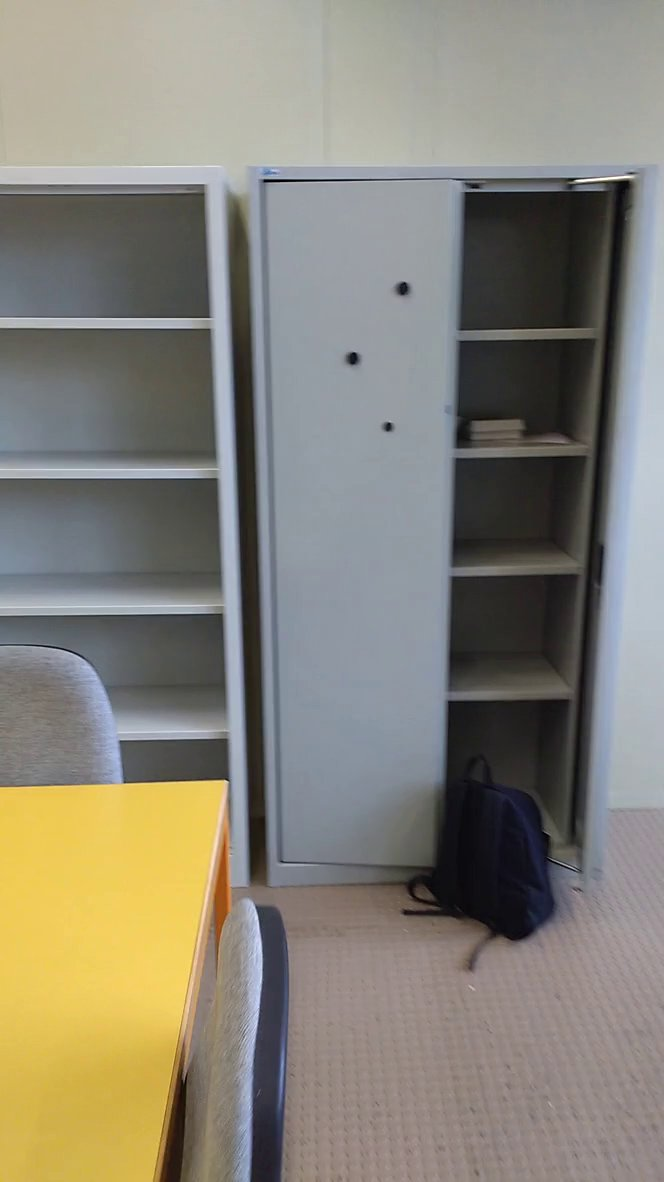bag: (402, 746, 564, 947)
chair: (163, 892, 348, 1182)
